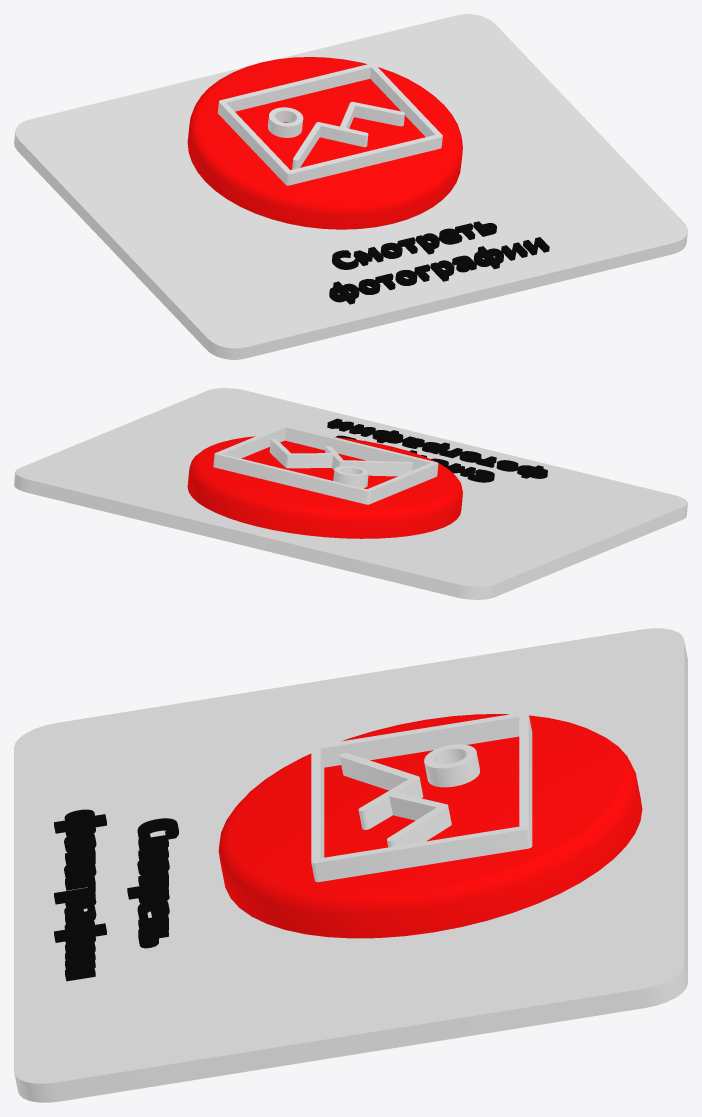
The model's file is foto.glb.
3 renders of one model, top to bottom at view 1: azimuth 30°, elevation 25°; view 2: azimuth 150°, elevation 25°; view 3: azimuth 270°, elevation 25°, orthographic. The views are drawn at different scales.
Parts seen in each view (by area): view 1: mesh_foto; view 2: mesh_foto; view 3: mesh_foto.
Boxes of the visible parts, <box> form: mesh_foto: <box>14,14,687,359</box>; mesh_foto: <box>14,388,687,599</box>; mesh_foto: <box>14,628,687,1102</box>.
Size of the model in its own units: 4 by 0.8297 by 3.17.
